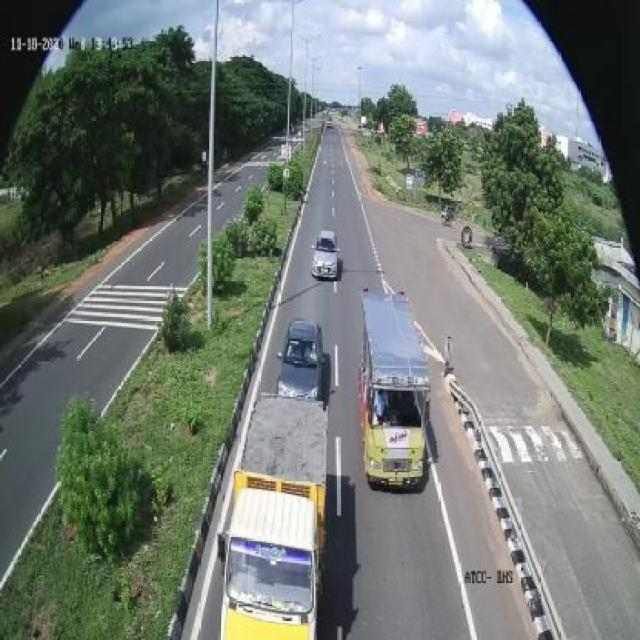car: (312, 226, 343, 283)
